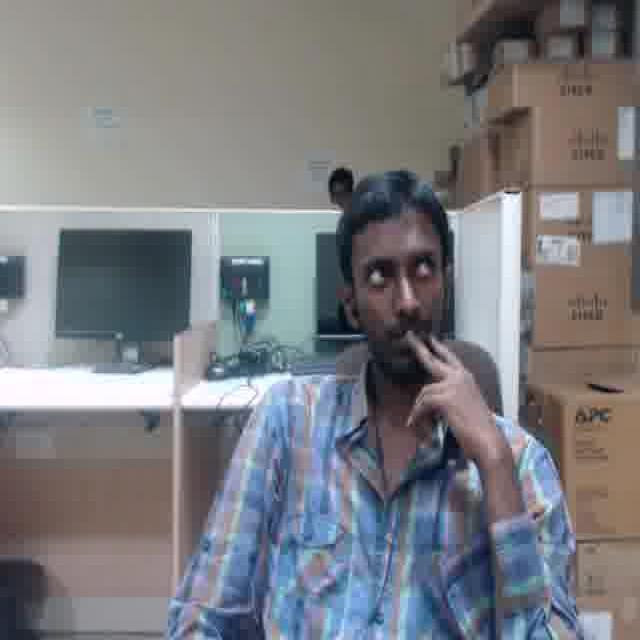Engaged: (353, 215, 440, 362)
